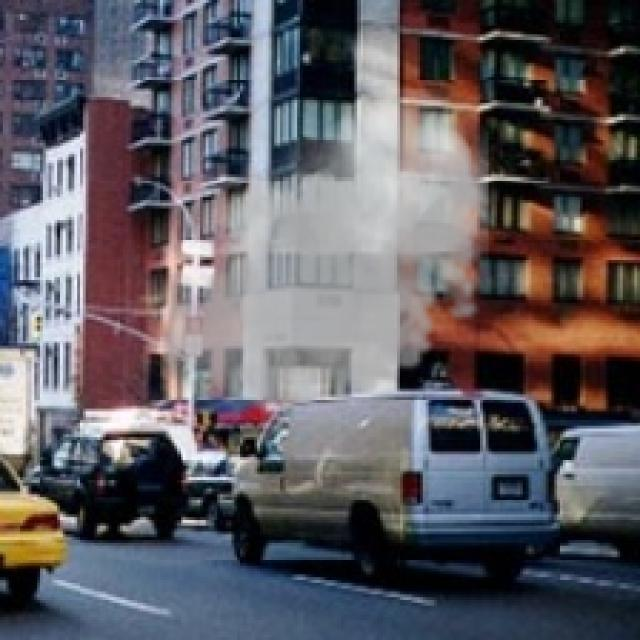smoke: (154, 89, 503, 437)
